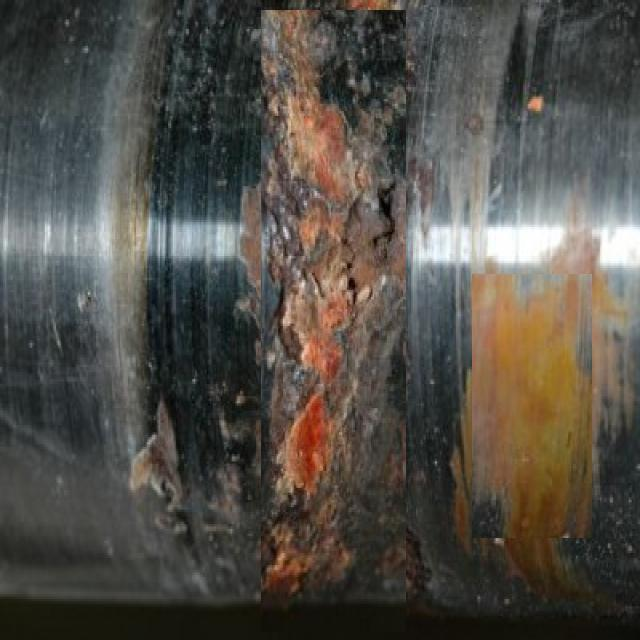Corrosion: (262, 10, 357, 600), (473, 274, 592, 542), (345, 116, 405, 306), (129, 398, 183, 512)
